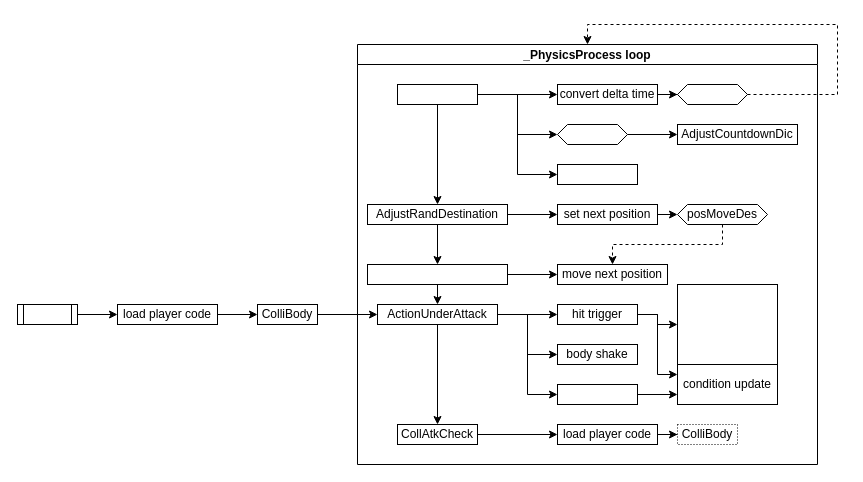
The diagram is 863 pixels wide and 482 high, and some of its shapes have lost their labels. The shapes that lost their labels are listed below. From the top down, each one's centre as x and y in pixels, then its label:
At (437,94): "InitialProcess".
At (712,94): "deltaTime".
At (592,134): "count dict".
At (597,174): "mana charge".
At (437,274): "ActionMoveDestination".
At (47,314): "bullet".
At (727,324): "condition update cooldown update duration update get damage sound effect".
At (597,394): "restoration".
